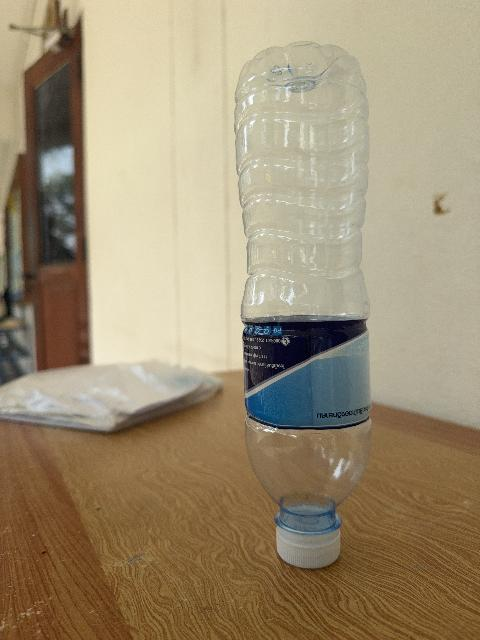bottle: (236, 43, 370, 567)
